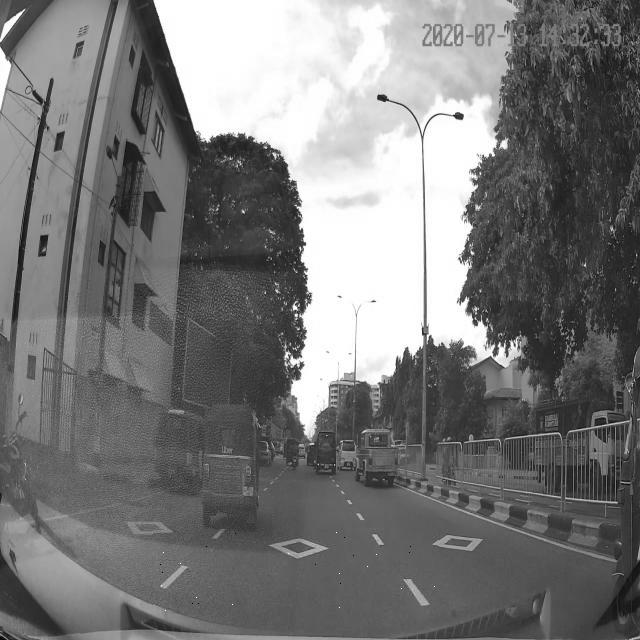diamond: (153, 529, 439, 612)
